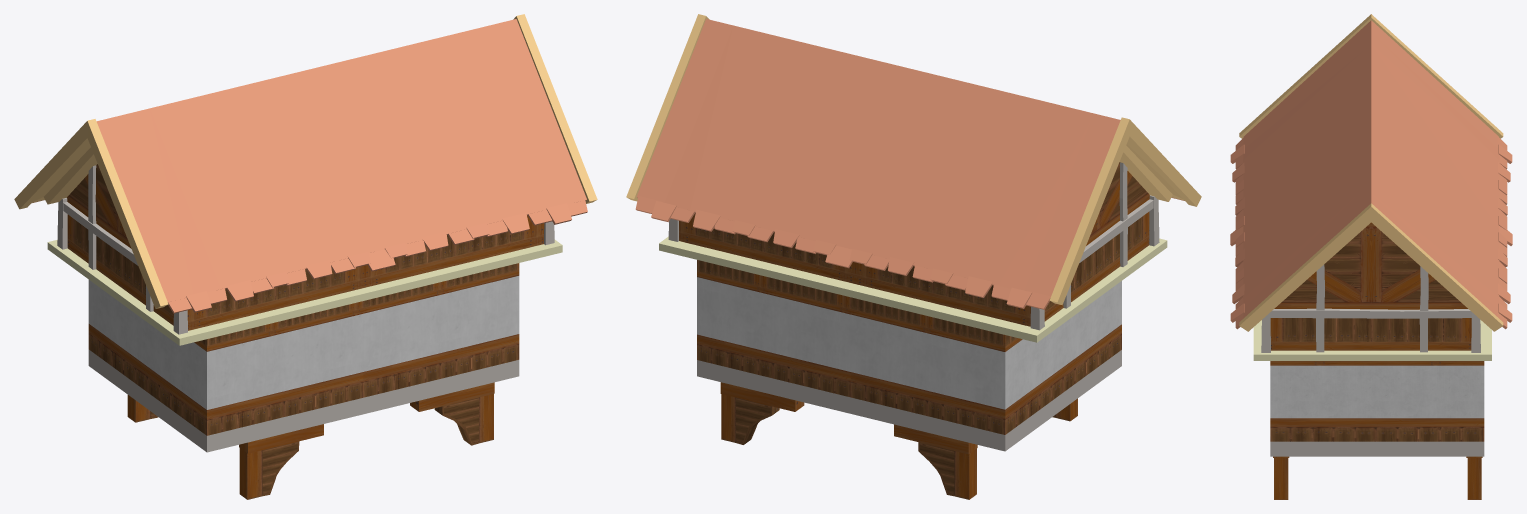
File: Building_D_01.fbx
3 renders of one model, left to right at view 1: azimuth 30°, elevation 25°; view 2: azimuth 150°, elevation 25°; view 3: azimuth 270°, elevation 25°, orthographic. The views are drawn at different scales.
Visible parts, largest first — view 1: Building_D_01; view 2: Building_D_01; view 3: Building_D_01.
Boxes of the visible parts, <box> form: Building_D_01: <box>14,14,597,499</box>; Building_D_01: <box>626,14,1201,499</box>; Building_D_01: <box>1230,14,1512,499</box>.
Size of the model in its own units: 2572 by 2058 by 1594.
